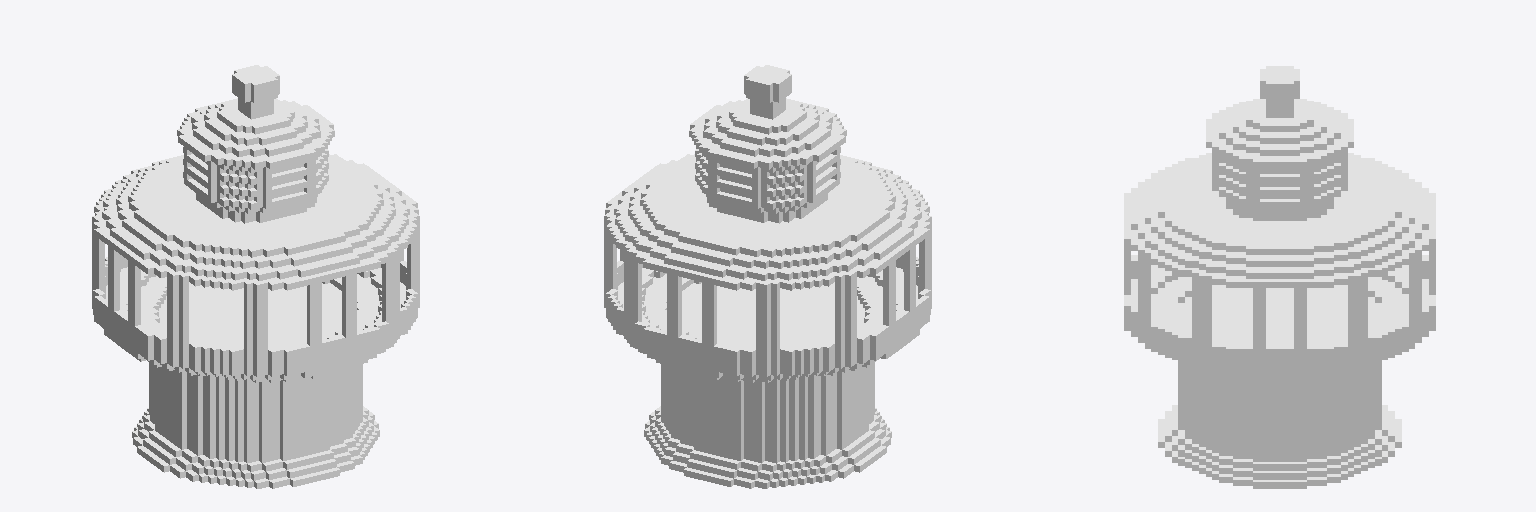
File: Prison_Centre.obj
3 views of the same model, side by side, from view 1: azimuth 30°, elevation 25°; view 2: azimuth 150°, elevation 25°; view 3: azimuth 270°, elevation 25° (orthographic).
Bounding box in the file's own units: 46 × 59 × 46.